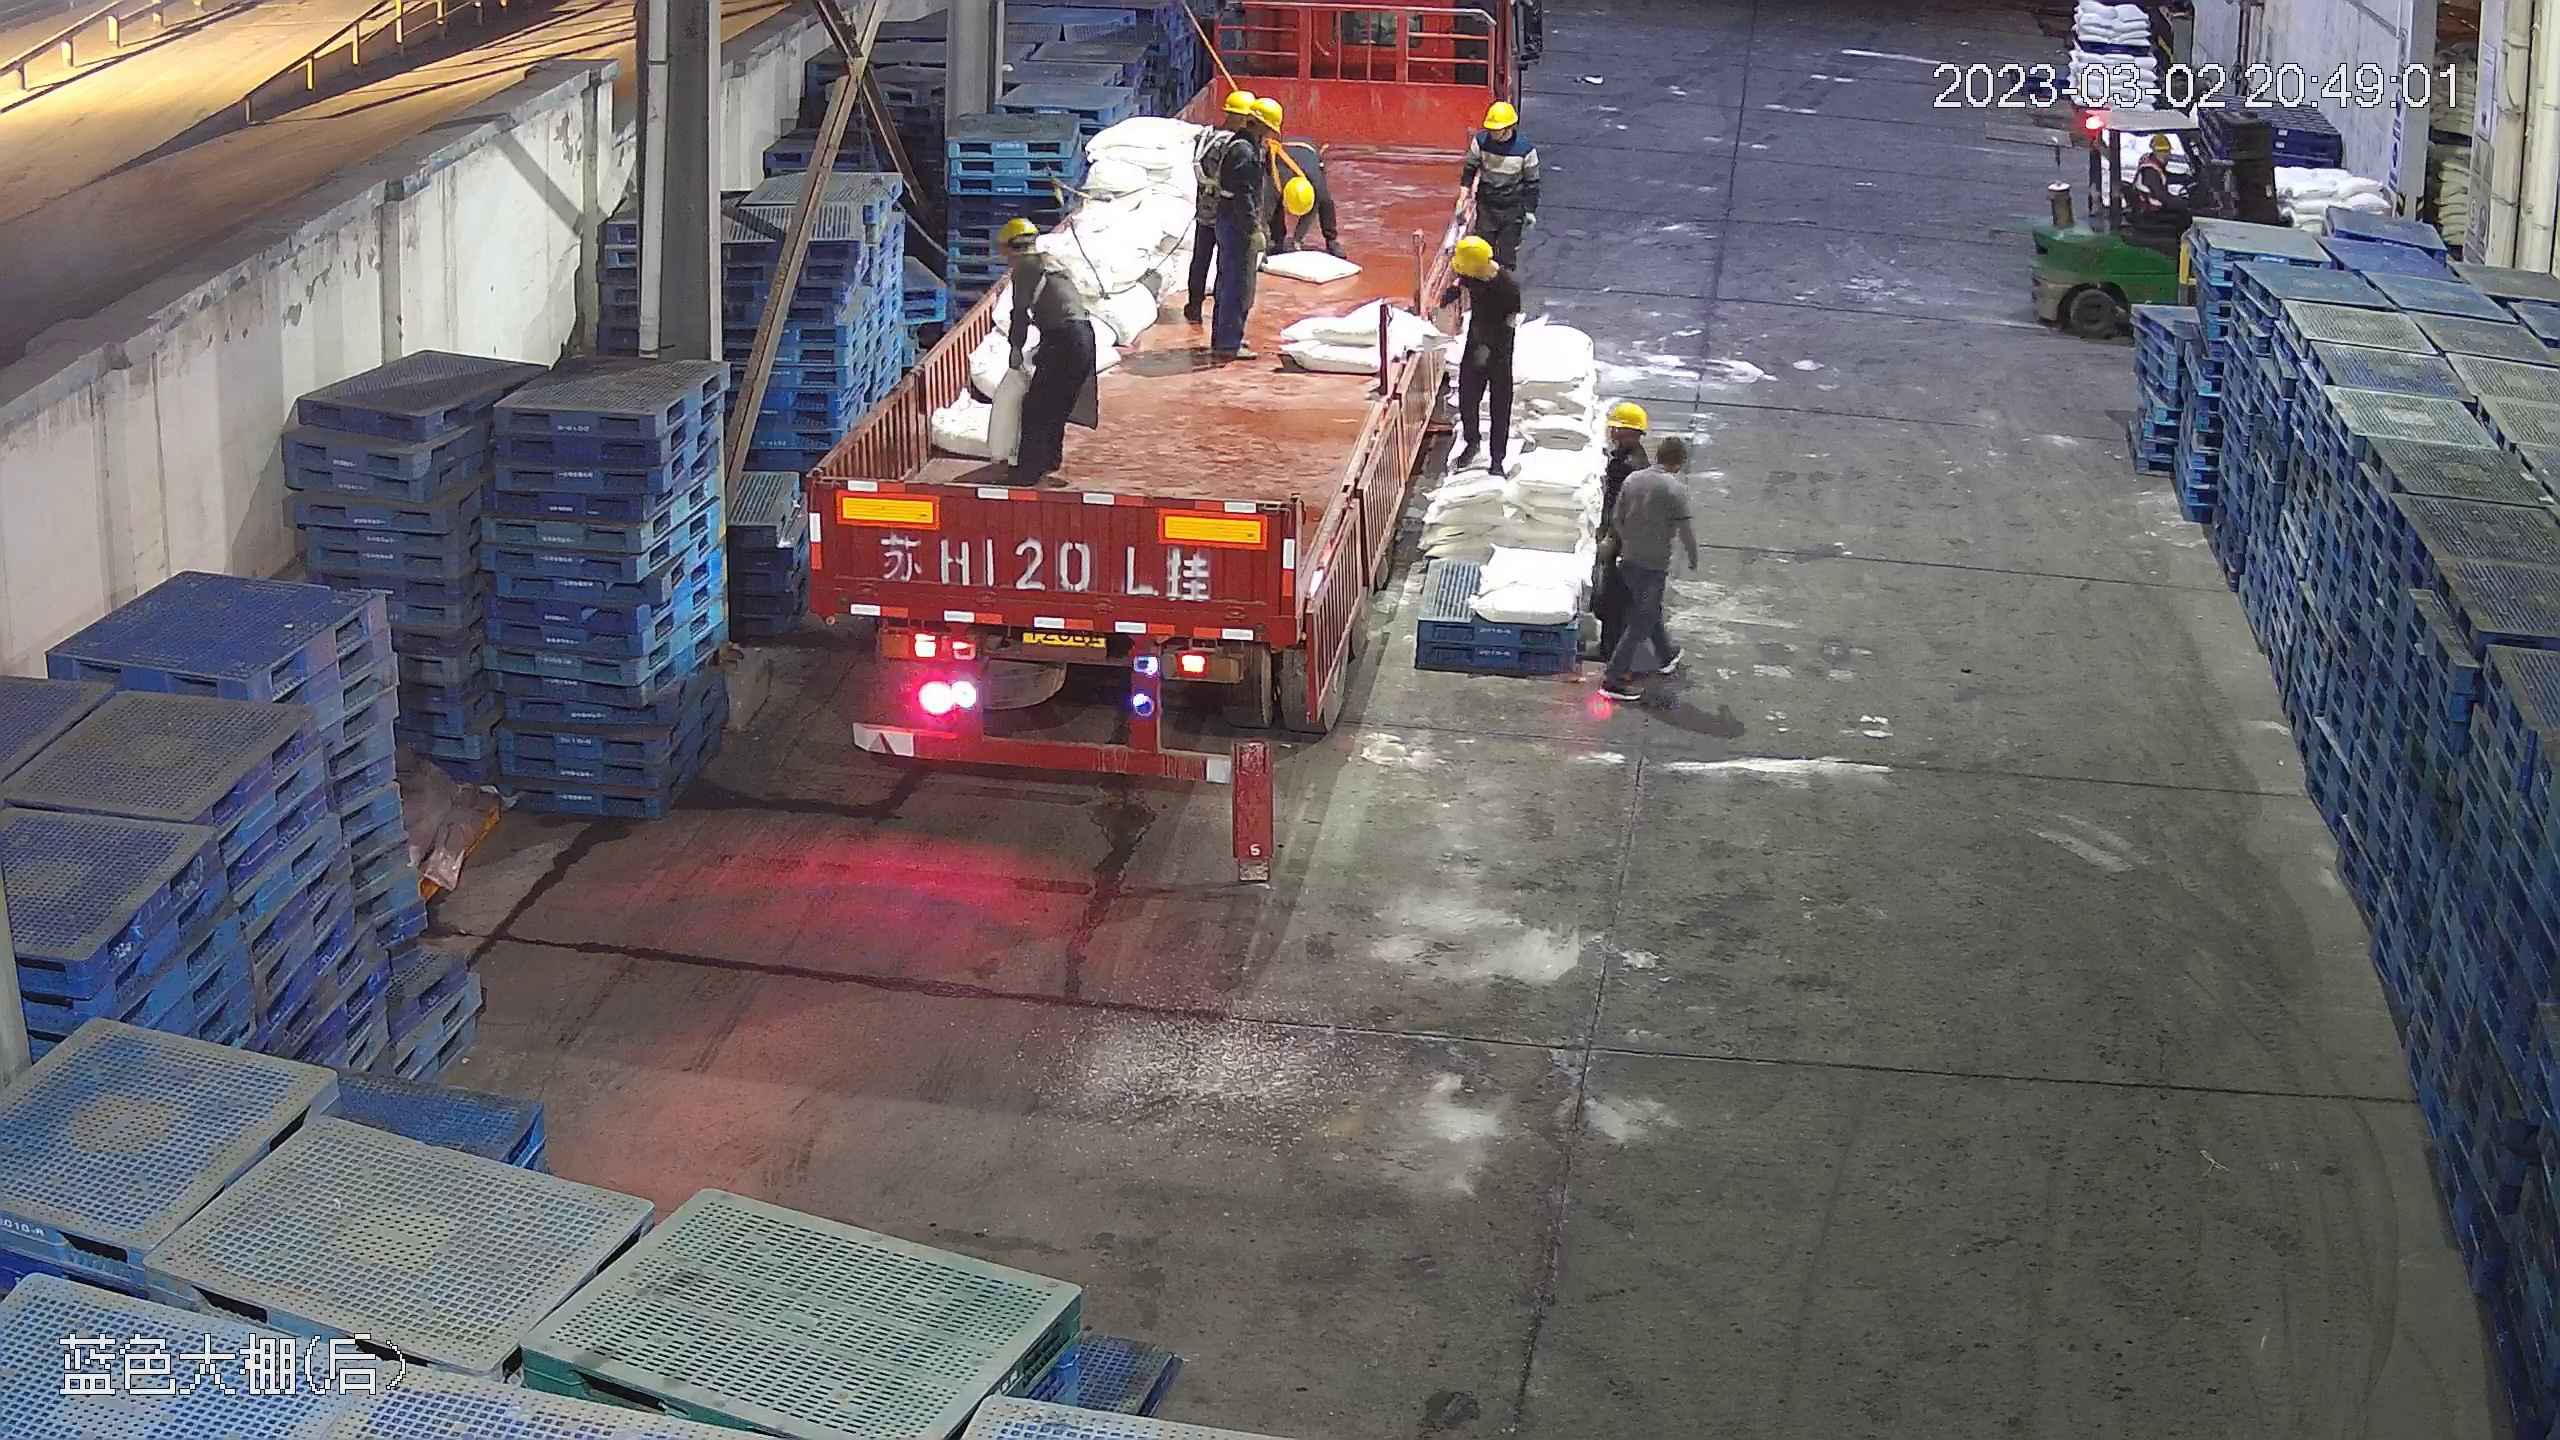belt: (1026, 258, 1096, 324), (1264, 132, 1317, 187), (1214, 126, 1244, 199), (1189, 129, 1222, 183)
head: (997, 217, 1085, 306), (1616, 432, 1692, 529), (1194, 93, 1273, 177), (1445, 235, 1518, 321), (1467, 99, 1538, 171), (1267, 150, 1322, 217), (2138, 129, 2183, 179)
helmet: (1449, 234, 1497, 274), (1603, 398, 1650, 430), (995, 215, 1040, 248), (1282, 164, 1316, 206), (1238, 95, 1284, 124), (2143, 131, 2178, 165), (1480, 99, 1518, 129)
people: (977, 209, 1100, 494), (1595, 430, 1692, 707), (1179, 95, 1270, 355), (1438, 232, 1521, 479), (1456, 99, 1543, 300), (2129, 130, 2190, 224)
truck: (790, 57, 1504, 773)
